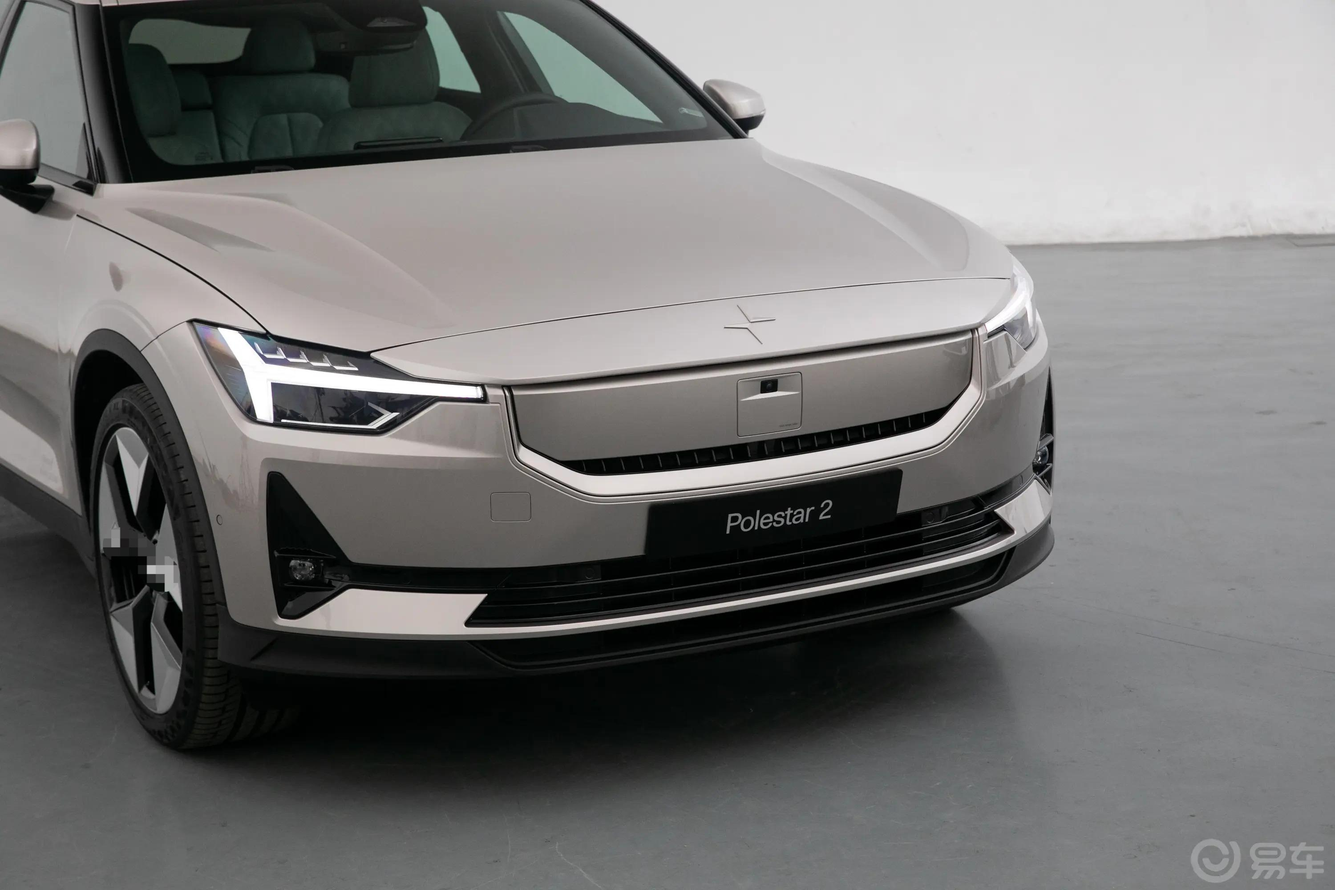Polestar: (724, 305, 776, 344)
